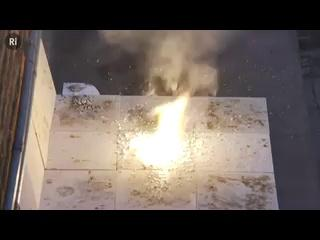Fire: (133, 84, 194, 168)
